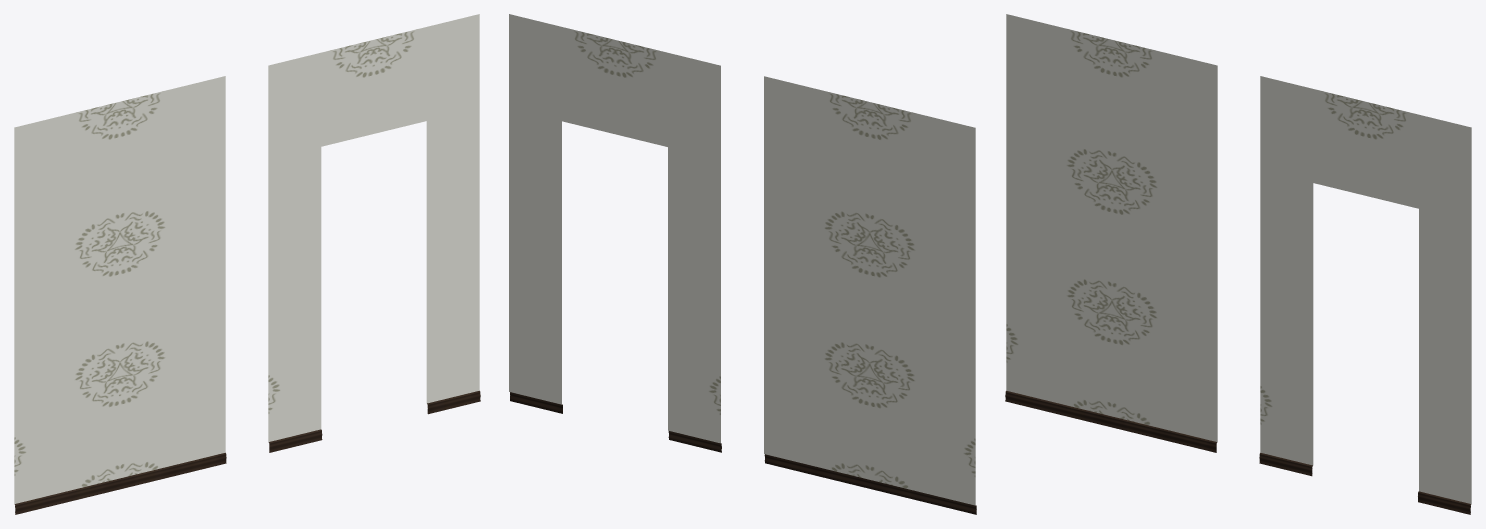
Rendered from WallsTRUE.fbx.
The picture shows the model from 3 angles, left to right: view 1: azimuth 30°, elevation 25°; view 2: azimuth 150°, elevation 25°; view 3: azimuth 330°, elevation 25°; orthographic projection.
Parts seen in each view (by area): view 1: Wall1, Wall2; view 2: Wall1, Wall2; view 3: Wall1, Wall2.
Boxes of the visible parts, x1=… form: Wall1: x1=14, y1=76, x2=226, y2=514; Wall2: x1=268, y1=14, x2=480, y2=452; Wall1: x1=764, y1=76, x2=976, y2=514; Wall2: x1=509, y1=14, x2=721, y2=452; Wall1: x1=1005, y1=14, x2=1217, y2=452; Wall2: x1=1259, y1=76, x2=1471, y2=514.
Size of the model in its own units: 4.41 by 3.5 by 0.0169.
